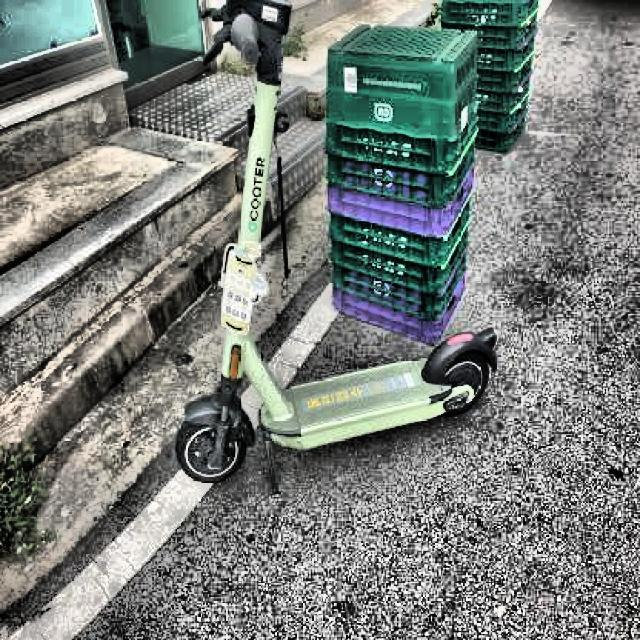bike: (174, 1, 499, 493)
